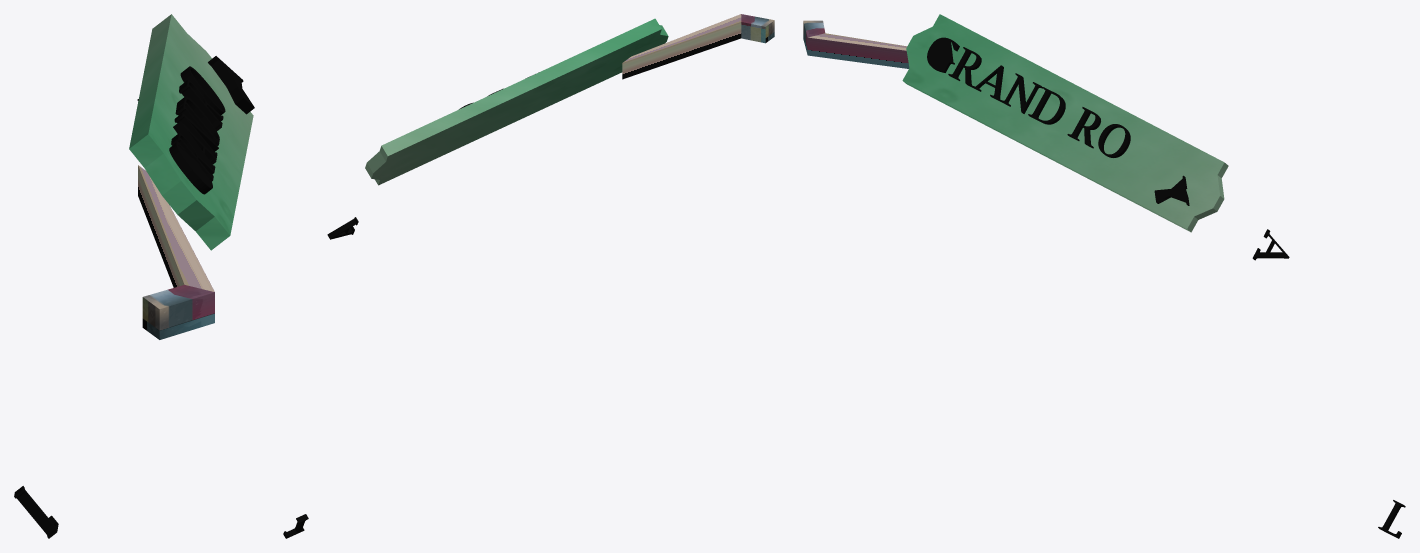
The model's file is Hotel_Sign.fbx.
3 renders of one model, left to right at view 1: azimuth 30°, elevation 25°; view 2: azimuth 150°, elevation 25°; view 3: azimuth 270°, elevation 25°, orthographic. The views are drawn at different scales.
Visible parts, largest first — view 1: polySurface12; view 2: polySurface12; view 3: polySurface12.
Part boxes in pixels (box(x1,y1,x2,y2)): polySurface12: box(14, 14, 254, 538); polySurface12: box(283, 14, 774, 538); polySurface12: box(803, 14, 1405, 538).
Bounding box in the file's own units: 1019 × 1741 × 2157.
